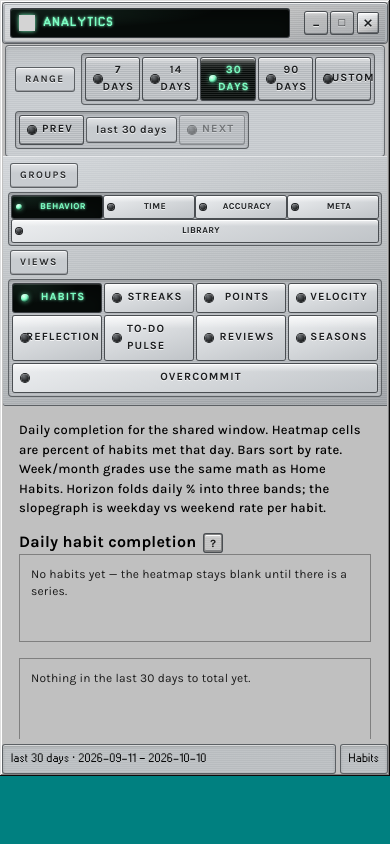
Scenario: EnhancedAnalytics › shows the concealed cycle sentence once and skips the phase tables
Click the tab "Time": click(149, 207) [104,196,194,218]
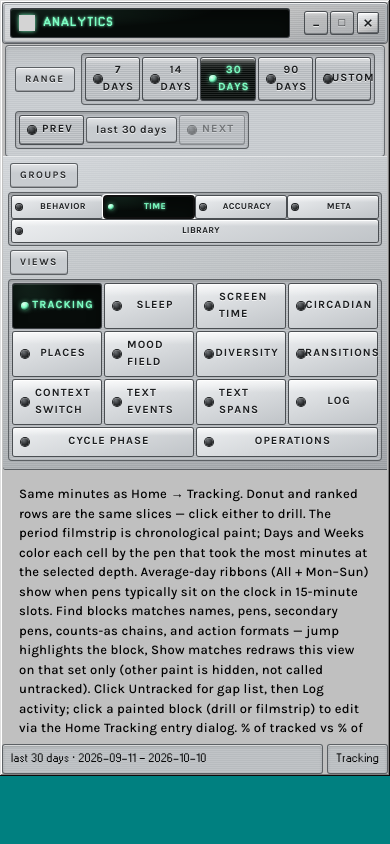
Click the tab "Cycle phase": click(103, 442) [13,428,193,456]
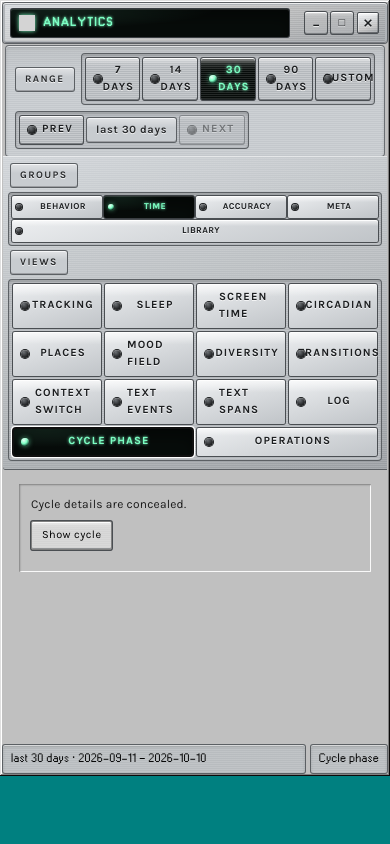
Expected: the element with test id "cycle-phase-concealed" is shown, [19,484,371,572]
Expected: the text "Cycle details are concealed." is shown once, [31,497,186,511]
Expected: the button "Show cycle" is shown, [31,521,112,550]
